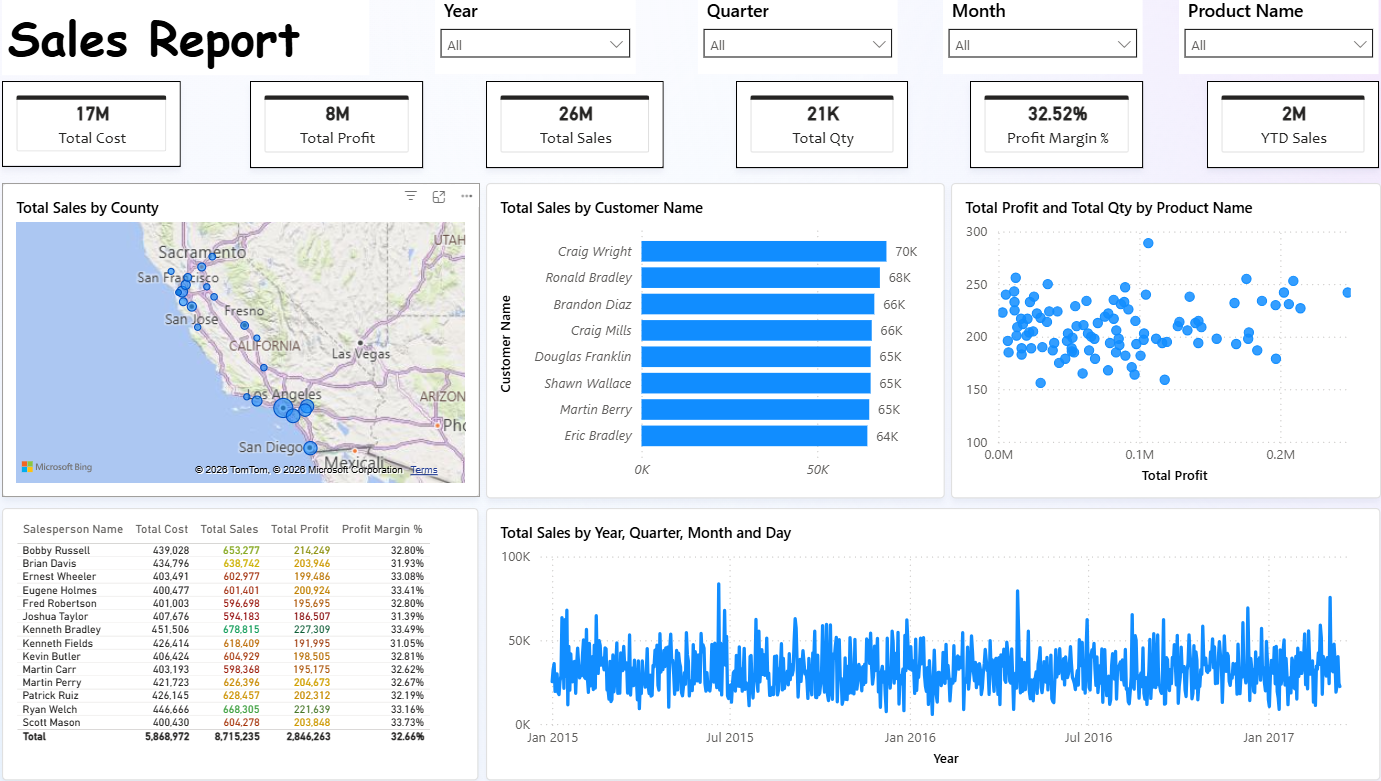

What the dashboard file says about the page in this screenshot:
{"tool":"powerbi","page":{"name":"Page 1","canvas":[1280,720],"ordinal":0},"visuals":[{"type":"cardVisual","fields":{"Data":["Key Measures.Total Sales"]},"box":[458.6,75.6,161.3,78.6],"z":2},{"type":"cardVisual","fields":{"Data":["Key Measures.Total Cost"]},"box":[20.2,75.6,162.3,77.6],"z":3},{"type":"cardVisual","fields":{"Data":["Key Measures.Total Qty"]},"box":[685.4,75.6,156.2,78.6],"z":4},{"type":"cardVisual","fields":{"Data":["Key Measures.Total Profit"]},"box":[244.9,75.6,157.2,78.6],"z":5},{"type":"cardVisual","fields":{"Data":["Key Measures.Profit Margin %"]},"box":[898,75.6,157.2,78.6],"z":6},{"type":"map","fields":{"Category":["Location_Data.County"],"Size":["Key Measures.Total Sales"]},"box":[20.2,167.3,433,285.2],"z":7},{"type":"clusteredBarChart","fields":{"Category":["Customer_Data.Customer Name"],"Y":["Key Measures.Total Sales"]},"box":[458.8,167.4,415.5,285.7],"z":8},{"type":"lineChart","fields":{"Category":["Date.Date.Variation.Date Hierarchy.Year","Date.Date.Variation.Date Hierarchy.Quarter","Date.Date.Variation.Date Hierarchy.Month","Date.Date.Variation.Date Hierarchy.Day"],"Y":["Key Measures.Total Sales"]},"box":[458.6,462.6,811.3,246.9],"z":9},{"type":"scatterChart","fields":{"Category":["Product_Data.Product Name"],"X":["Key Measures.Total Profit"],"Y":["Key Measures.Total Qty"]},"box":[880.1,167.4,389.5,285.7],"z":10},{"type":"slicer","fields":{"Values":["Date.Date.Variation.Date Hierarchy.Year"]},"box":[412.6,0,181.8,69.3],"z":11},{"type":"slicer","fields":{"Values":["Date.Date.Variation.Date Hierarchy.Quarter"]},"box":[636.3,0,181.8,69.3],"z":12},{"type":"slicer","fields":{"Values":["LocalDateTable_7fafe792-3b5e-42e9-be80-096bdfddfb45.Month"]},"box":[841.1,0,181.8,69.3],"z":13},{"type":"slicer","fields":{"Values":["Product_Data.Product Name"]},"box":[1061.9,0,181.8,69.3],"z":14},{"type":"tableEx","fields":{"Values":["Salespeople_Data.Salesperson Name","Key Measures.Total Cost","Key Measures.Total Sales","Key Measures.Total Profit","Key Measures.Profit Margin %"]},"box":[20.2,462.6,432.4,246.9],"z":15},{"type":"cardVisual","fields":{"Data":["Key Measures.YTD Sales"]},"box":[1112.7,75.6,156.2,78.6],"z":16},{"type":"textbox","box":[20.2,1,332.6,68.5],"z":17}]}

Visuals, with their boxes in screenshot pixels (x1, y1, x2, y2), scaled from the page's 1280x720 canvas onto the 1381x781 screenshot:
cardVisual - Key Measures.Total Sales: crop(495, 82, 669, 167)
cardVisual - Key Measures.Total Cost: crop(22, 82, 197, 166)
cardVisual - Key Measures.Total Qty: crop(739, 82, 908, 167)
cardVisual - Key Measures.Total Profit: crop(264, 82, 434, 167)
cardVisual - Key Measures.Profit Margin %: crop(969, 82, 1138, 167)
map - Location_Data.County x Key Measures.Total Sales: crop(22, 181, 489, 491)
clusteredBarChart - Customer_Data.Customer Name x Key Measures.Total Sales: crop(495, 182, 943, 491)
lineChart - Date.Date.Variation.Date Hierarchy.Year x Date.Date.Variation.Date Hierarchy.Quarter: crop(495, 502, 1370, 770)
scatterChart - Product_Data.Product Name x Key Measures.Total Profit: crop(950, 182, 1370, 491)
slicer - Date.Date.Variation.Date Hierarchy.Year: crop(445, 0, 641, 75)
slicer - Date.Date.Variation.Date Hierarchy.Quarter: crop(687, 0, 883, 75)
slicer - LocalDateTable_7fafe792-3b5e-42e9-be80-096bdfddfb45.Month: crop(907, 0, 1104, 75)
slicer - Product_Data.Product Name: crop(1146, 0, 1342, 75)
tableEx - Salespeople_Data.Salesperson Name x Key Measures.Total Cost: crop(22, 502, 488, 770)
cardVisual - Key Measures.YTD Sales: crop(1200, 82, 1369, 167)
textbox: crop(22, 1, 381, 75)
